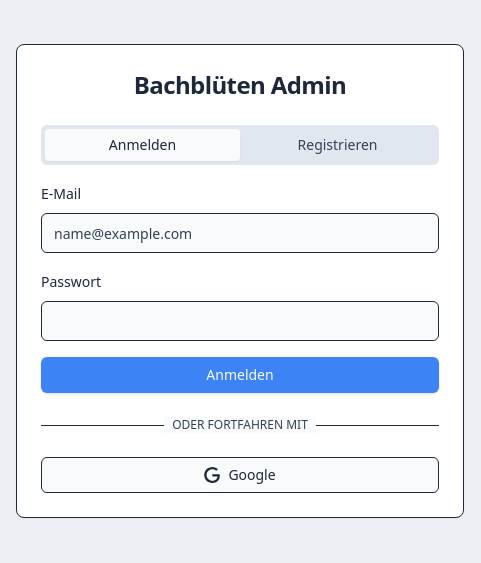
Test: LoginForm › handles validation errors correctly
Click the button "Anmelden".
click(240, 375)  # box [41,357,439,393]
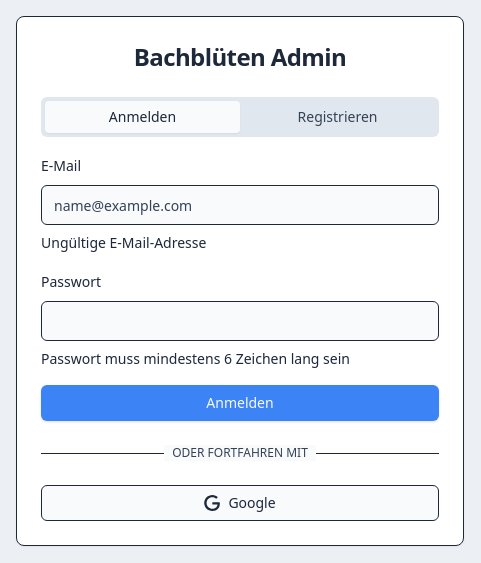
Expected: the text "Ungültige E-Mail-Adresse" is shown, [41,233,206,252]
Expected: the text "Passwort muss mindestens 6 Zeichen lang sein" is shown, [41,349,350,368]
